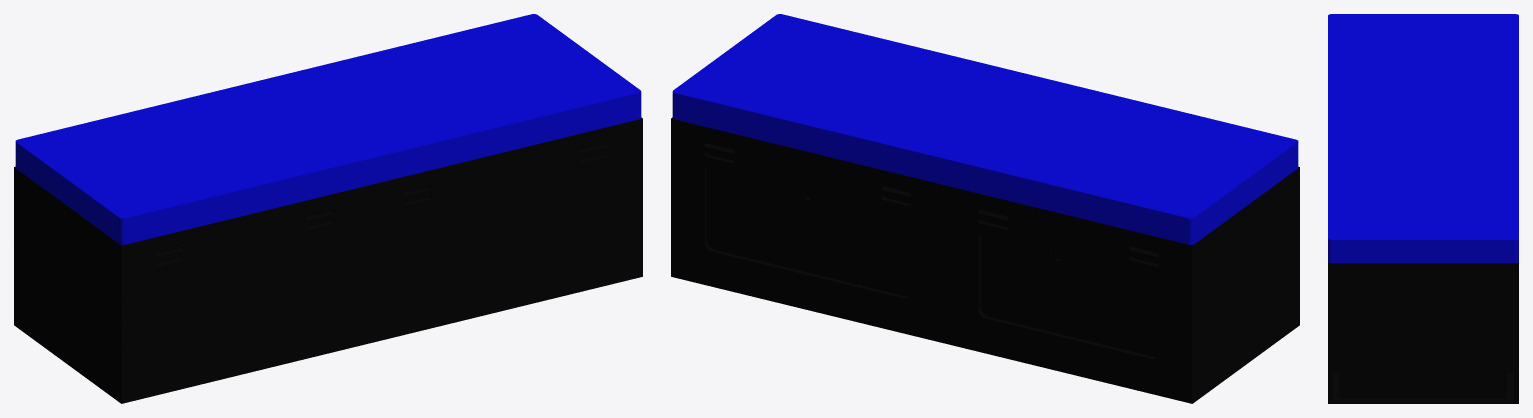
File: Corbett 450.glb
3 views of the same model, side by side, from view 1: azimuth 30°, elevation 25°; view 2: azimuth 150°, elevation 25°; view 3: azimuth 270°, elevation 25° (orthographic). The views are drawn at different scales.
Size of the model in its own units: 1.4 by 0.474 by 0.5.
